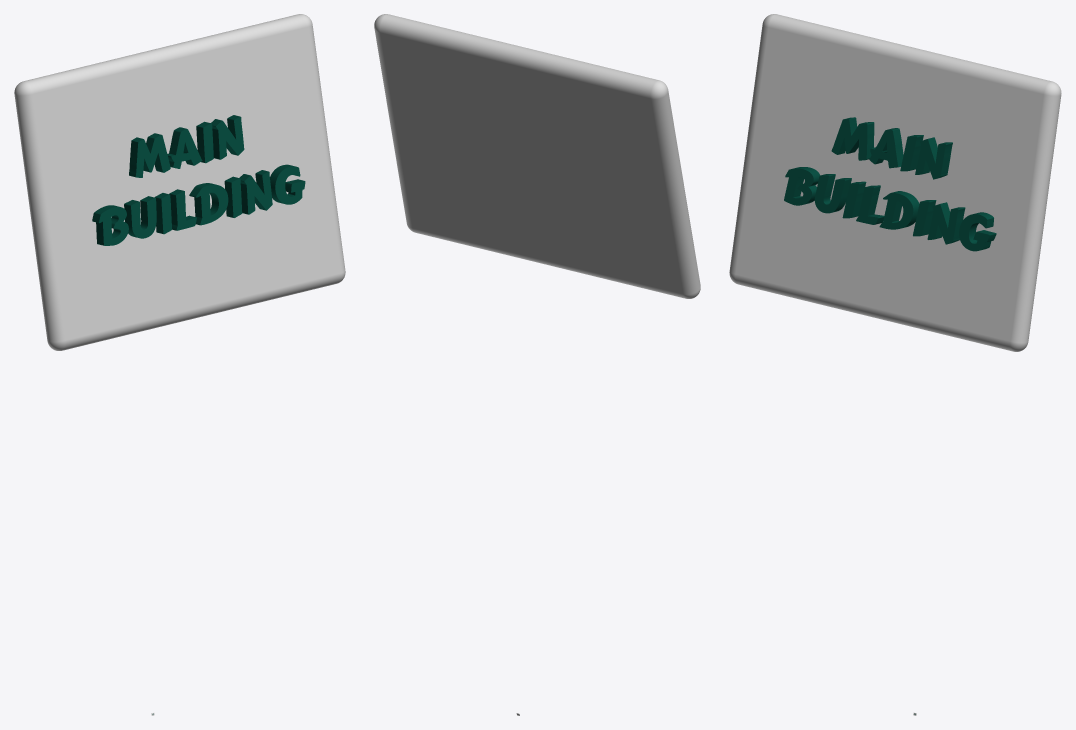
The model's file is BOYSHOSTEL.glb.
3 renders of one model, left to right at view 1: azimuth 30°, elevation 25°; view 2: azimuth 150°, elevation 25°; view 3: azimuth 330°, elevation 25°, orthographic.
Visible parts, largest first — view 1: Cube 5, Text; view 2: Cube 5; view 3: Cube 5, Text.
Boxes of the visible parts, x1,y1,x2,y2 form: Cube 5: (14,14,345,350); Text: (92,115,305,245); Cube 5: (374,14,700,298); Cube 5: (729,14,1061,351); Text: (784,117,996,251).
Bounding box in the file's own units: 153 × 333 × 41.24.
